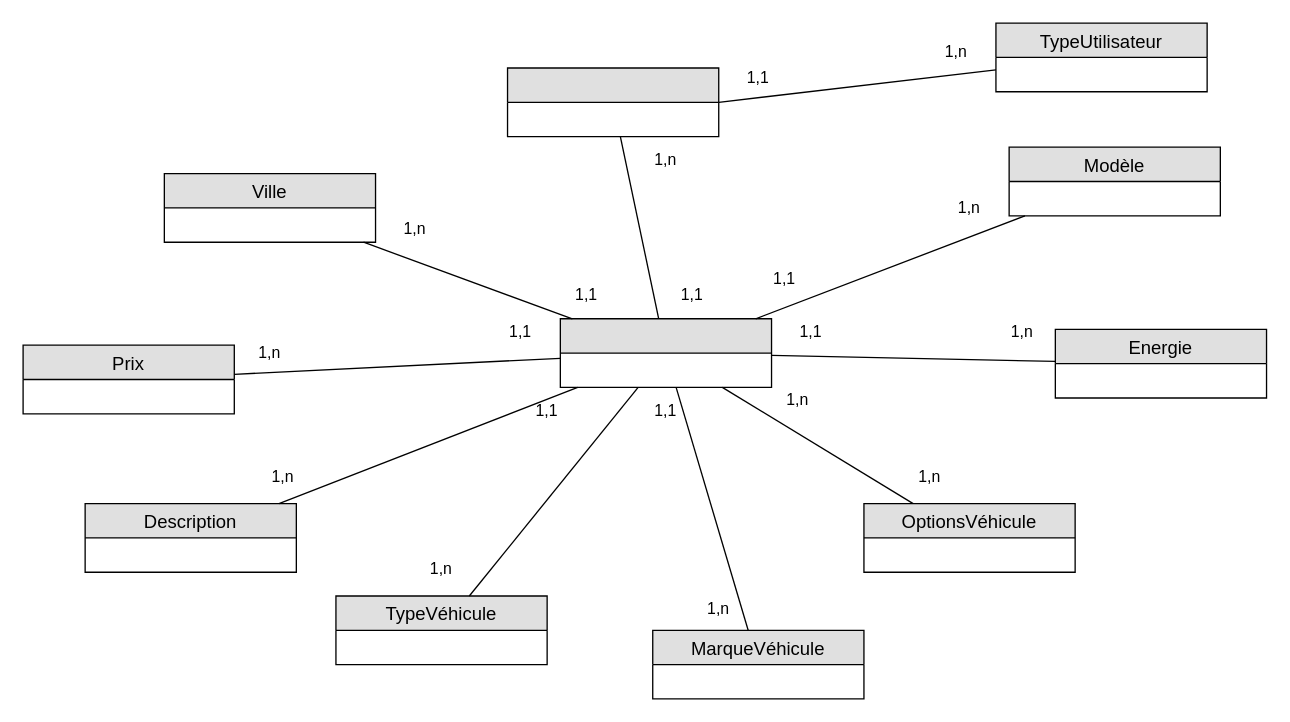
Some shapes in this 1290 by 722 pixel diagram are drawn without their labels. The shapes that lost their labels are listed below. From the top down, each one's centre as x and y in pixels, then its label:
At (x=612, y=102): "Utilisateur".
At (x=665, y=352): "Véhicule".
